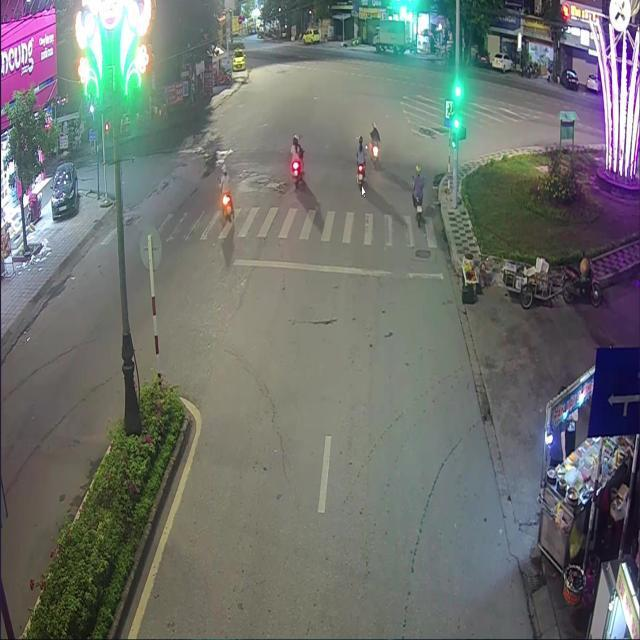green_light: (452, 97, 459, 127)
motobike: (289, 157, 302, 186), (220, 192, 233, 220), (355, 162, 363, 192), (371, 143, 378, 169), (415, 199, 421, 226)
stop_line: (231, 258, 442, 280)
